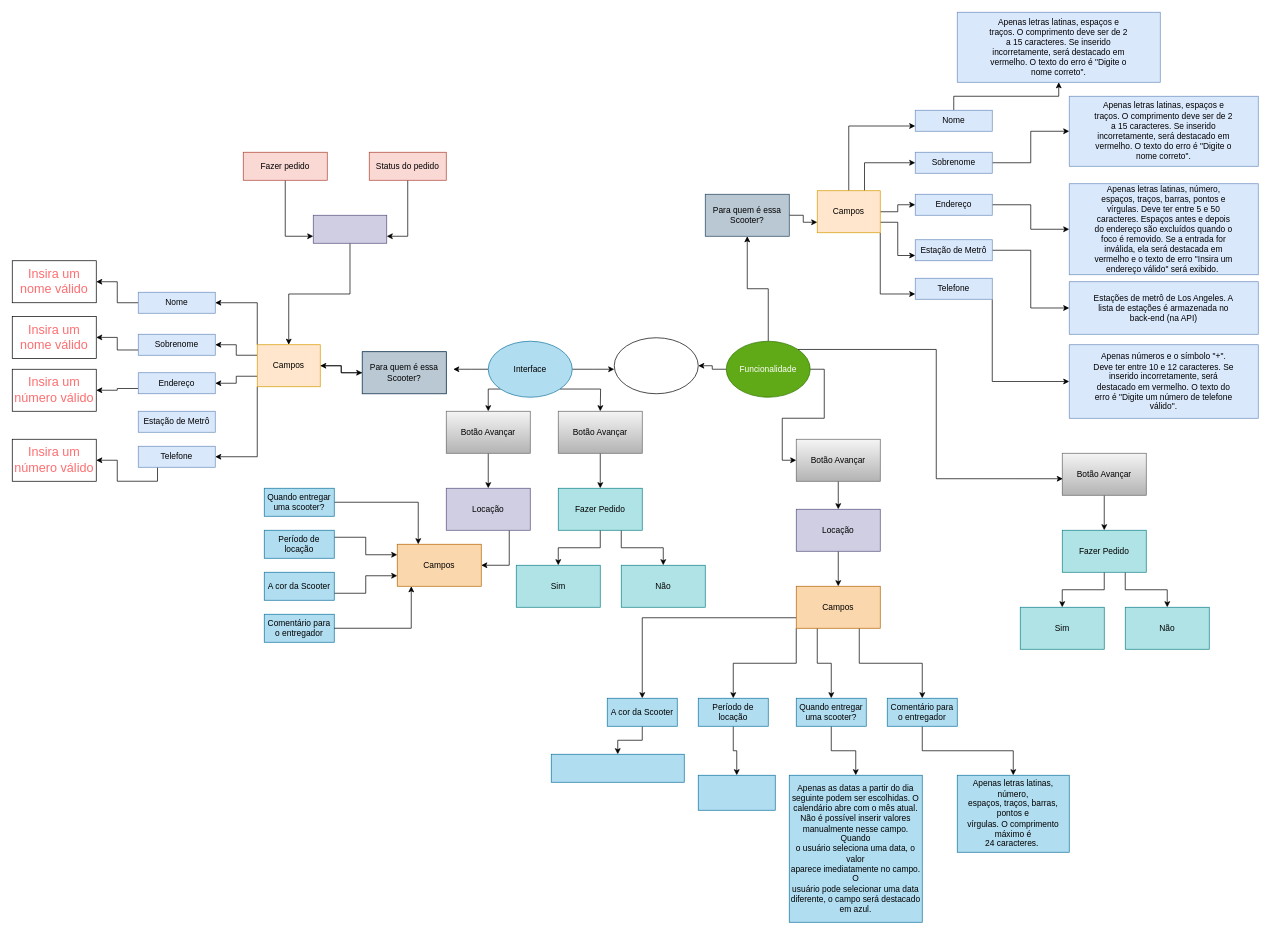
This 1271x935 diagram has some shape labels left out. Here are the shapes that lost their labels. From the top down, the box of each, then its label:
(313, 215, 387, 243): Cabeçalho
(614, 337, 698, 394): Formulário Pedido
(551, 754, 684, 782): Preto, cinza. Uma ou ambas as opções podem ser escolhidas.
(698, 775, 775, 810): É possível escolher de 1 a 7 dias.
